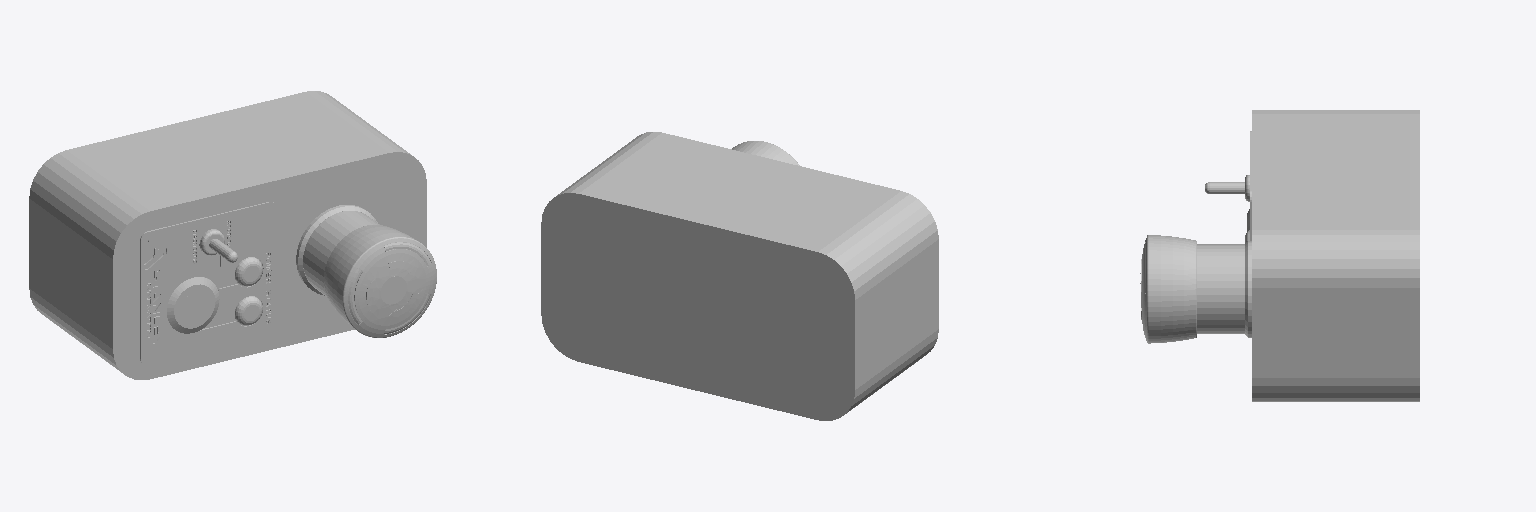
Rendered from hmi_box.obj.
3 renders of one model, left to right at view 1: azimuth 30°, elevation 25°; view 2: azimuth 150°, elevation 25°; view 3: azimuth 270°, elevation 25°, orthographic.
Bounding box in the file's own units: 0.1067 × 0.0546 × 0.0821.